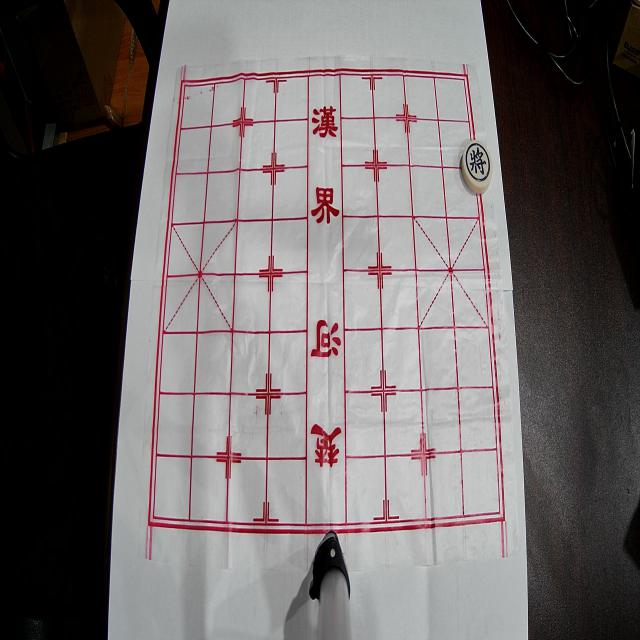black-general: (461, 140, 493, 194)
